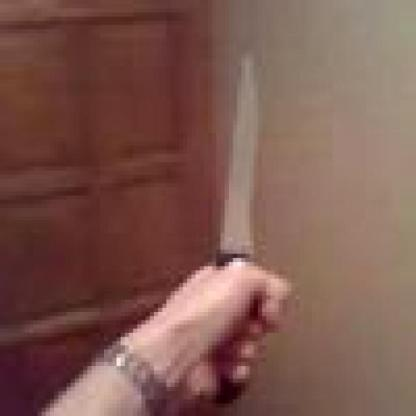Knife: (208, 54, 283, 275)
